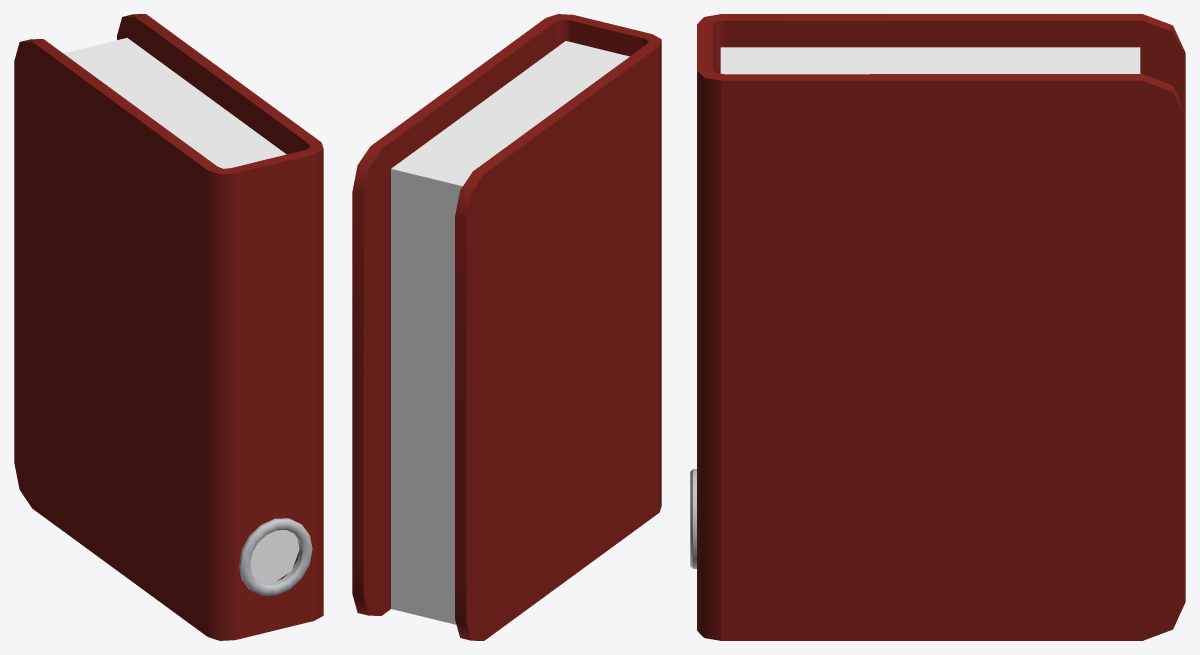
File: Folder_2.fbx
3 views of the same model, side by side, from view 1: azimuth 30°, elevation 25°; view 2: azimuth 150°, elevation 25°; view 3: azimuth 270°, elevation 25° (orthographic). The views are drawn at different scales.
Parts seen in each view (by area): view 1: Folder_2; view 2: Folder_2; view 3: Folder_2.
Part boxes in pixels (bbox=[...]): Folder_2: bbox=[14, 14, 323, 640]; Folder_2: bbox=[352, 14, 661, 640]; Folder_2: bbox=[690, 14, 1185, 640].
Bounding box in the file's own units: 0.1004 × 0.3932 × 0.3152.
